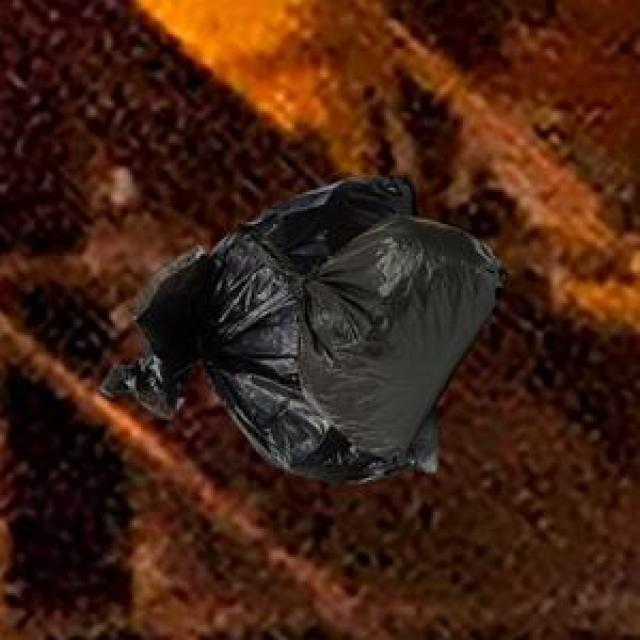waste: (102, 179, 500, 481)
